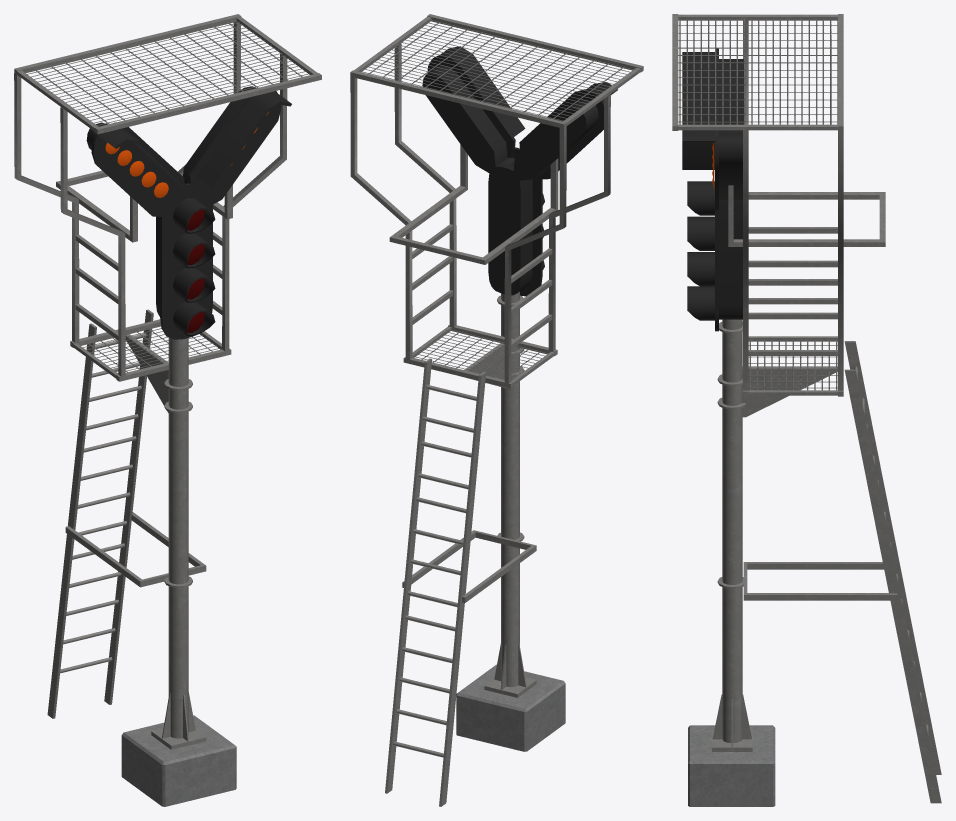
Rendered from rail_signalgantry_sml_D.fbx.
3 renders of one model, left to right at view 1: azimuth 30°, elevation 25°; view 2: azimuth 150°, elevation 25°; view 3: azimuth 270°, elevation 25°, orthographic. The views are drawn at different scales.
Visible parts, largest first — view 1: rail_signalgantry_sml_D; view 2: rail_signalgantry_sml_D; view 3: rail_signalgantry_sml_D.
Part boxes in pixels (x1=…): rail_signalgantry_sml_D: x1=14, y1=14, x2=321, y2=806; rail_signalgantry_sml_D: x1=350, y1=14, x2=643, y2=806; rail_signalgantry_sml_D: x1=672, y1=14, x2=941, y2=806.
Size of the model in its own units: 2.15 by 6.41 by 2.17.
